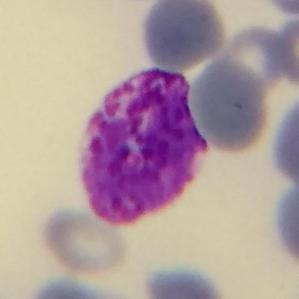Basophil: (70, 56, 219, 235), (136, 0, 230, 71)
Lymphocyte: (136, 0, 230, 71)
RBC: (185, 55, 274, 157), (37, 204, 132, 279), (136, 0, 230, 71), (216, 22, 290, 89), (266, 87, 299, 193), (266, 87, 298, 196), (139, 262, 228, 299), (20, 273, 144, 299), (267, 174, 299, 272), (268, 14, 299, 89), (260, 0, 299, 18)
